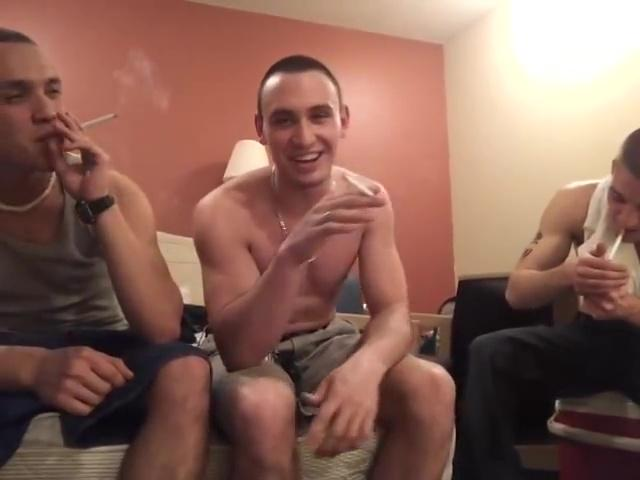cigarette: (339, 170, 381, 198), (76, 110, 123, 130), (606, 224, 629, 264)
